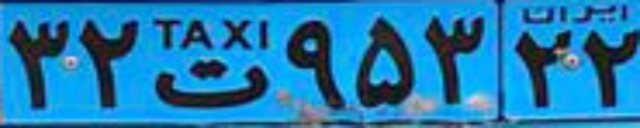2: (77, 18, 140, 108), (512, 29, 571, 108), (582, 29, 638, 108)
3: (420, 14, 488, 105), (7, 18, 69, 111)
5: (353, 15, 417, 107)
9: (284, 17, 347, 108)
te: (151, 56, 272, 109)
